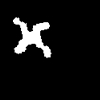single_crochet: (13, 18, 50, 56)
